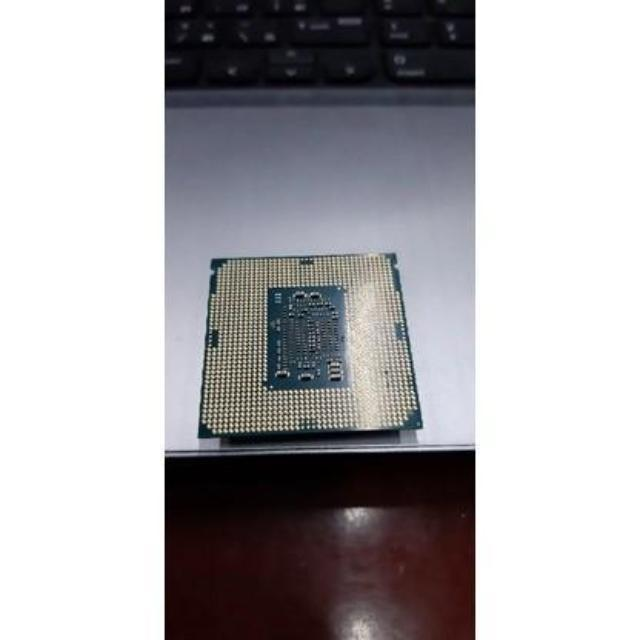CPU: (201, 252, 421, 442)
